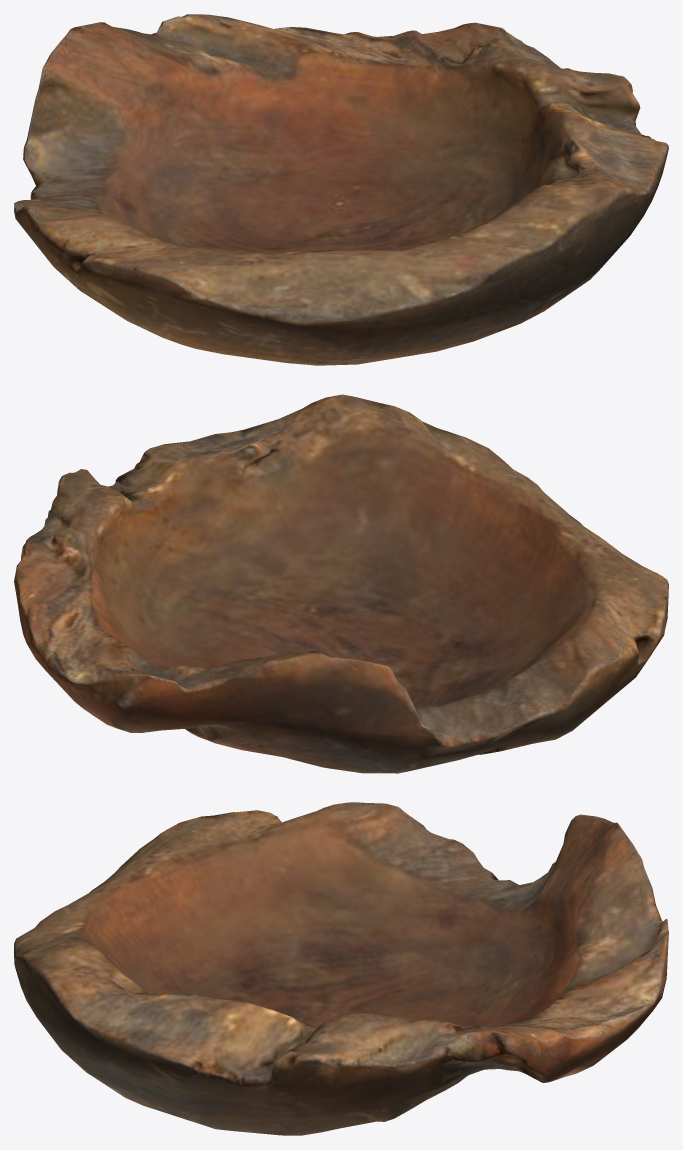
The model's file is wooden_bowl_01.glb.
3 renders of one model, top to bottom at view 1: azimuth 30°, elevation 25°; view 2: azimuth 150°, elevation 25°; view 3: azimuth 270°, elevation 25°, orthographic. The views are drawn at different scales.
Parts seen in each view (by area): view 1: wooden_bowl_01; view 2: wooden_bowl_01; view 3: wooden_bowl_01.
Boxes of the visible parts, box(x1,y1,x2,y2) form: wooden_bowl_01: box(14, 14, 668, 365); wooden_bowl_01: box(14, 394, 668, 773); wooden_bowl_01: box(14, 802, 668, 1135).
Size of the model in its own units: 0.313 by 0.0935 by 0.3088.
1 material, 1 textured.
